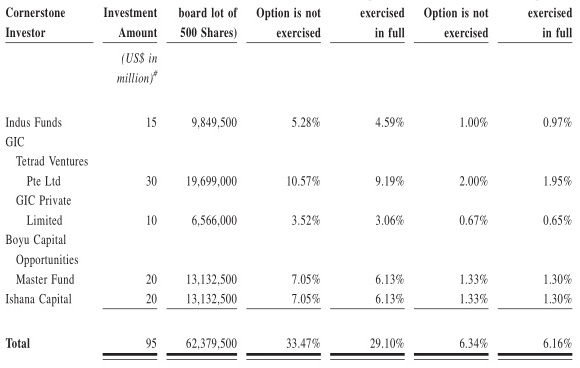column: (5, 1, 89, 368), (255, 1, 322, 368), (423, 1, 490, 368), (177, 1, 239, 368), (102, 1, 158, 368), (359, 1, 406, 368), (527, 1, 573, 368)
row: (1, 6, 580, 22), (1, 70, 580, 85), (1, 233, 580, 248), (1, 254, 580, 269), (1, 51, 580, 65), (1, 115, 580, 129), (1, 336, 580, 350), (1, 26, 580, 39), (1, 175, 580, 188), (1, 194, 580, 207), (1, 273, 580, 286), (1, 292, 579, 305), (1, 136, 580, 148), (1, 155, 580, 167), (1, 214, 580, 226)
